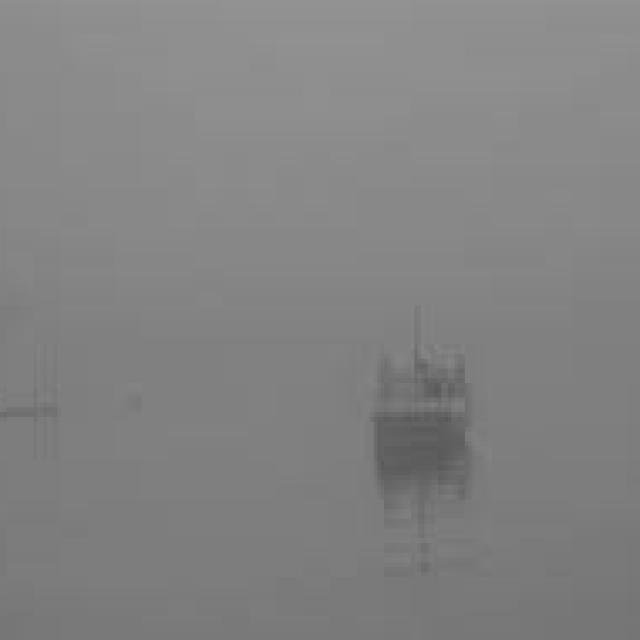houseboat: (344, 312, 491, 483)
